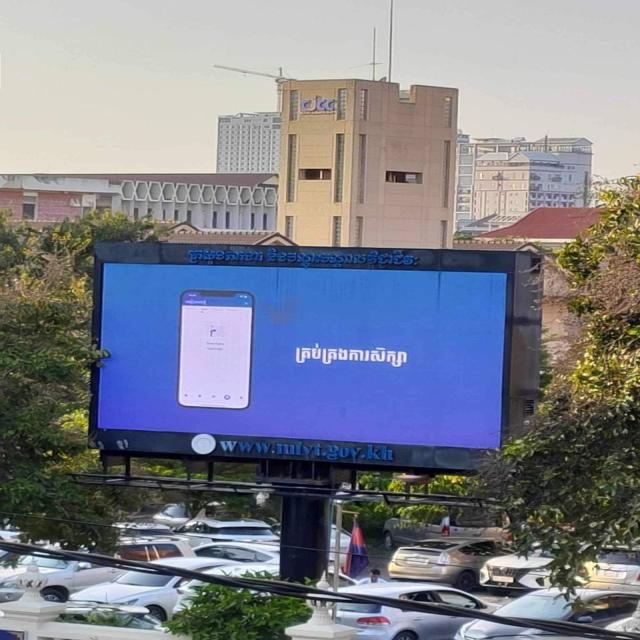1: (181, 244, 426, 270)
Yolov11_80vkh: (290, 340, 413, 370)
